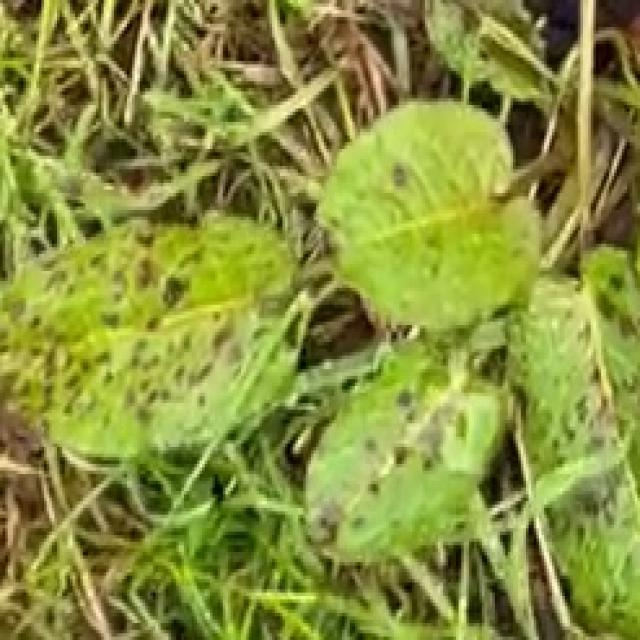organic waste: (0, 44, 640, 620)
